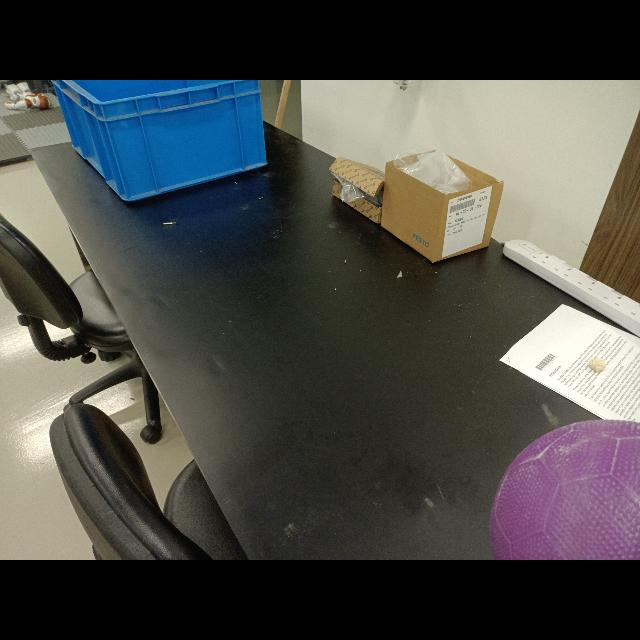P: (488, 412, 640, 560)
